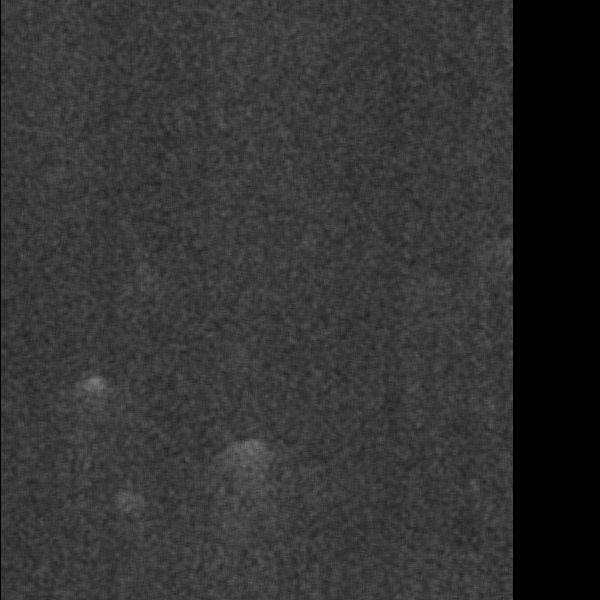spark: (237, 435, 268, 504), (77, 370, 108, 416), (104, 487, 140, 517), (215, 5, 228, 23)
